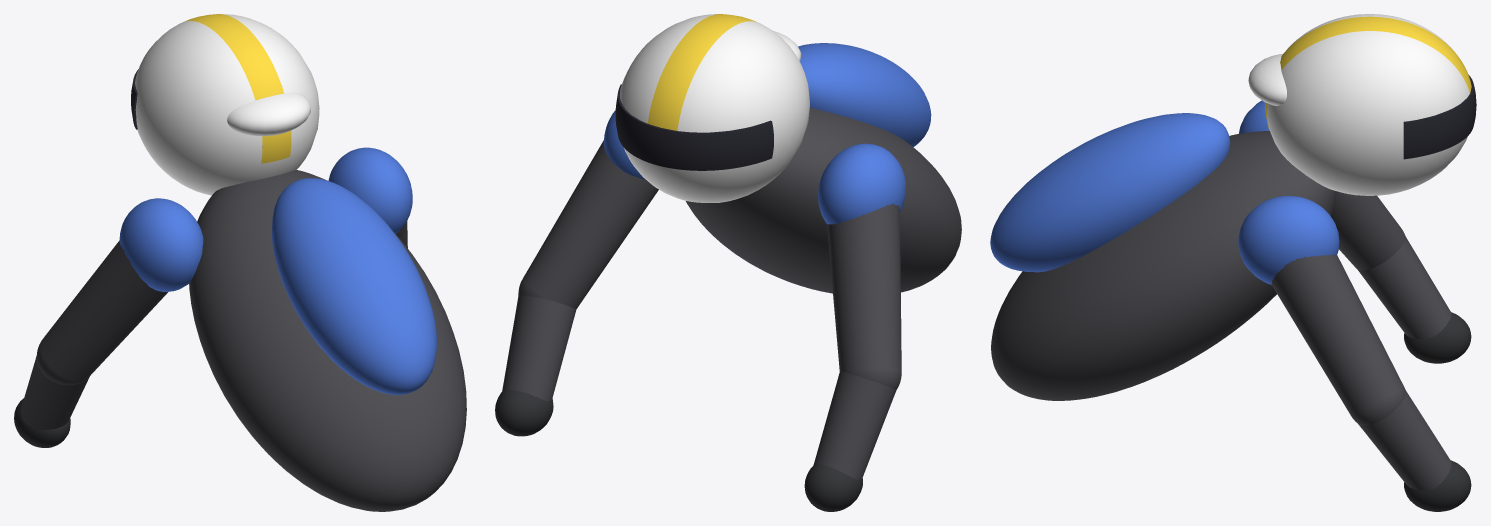
File: rider_upper.glb
3 views of the same model, side by side, from view 1: azimuth 30°, elevation 25°; view 2: azimuth 150°, elevation 25°; view 3: azimuth 270°, elevation 25° (orthographic). The views are drawn at different scales.
Parts seen in each view (by area): view 1: Suit, Livery, Helmet, Accent, Carbon; view 2: Suit, Helmet, Livery, Visor, Carbon, Accent; view 3: Suit, Livery, Helmet, Carbon, Accent, Visor.
Part boxes in pixels (bbox=[...]): Suit: bbox=[20, 170, 466, 511]; Livery: bbox=[119, 147, 436, 394]; Helmet: bbox=[135, 14, 319, 195]; Accent: bbox=[184, 14, 291, 163]; Carbon: bbox=[14, 398, 70, 447]; Suit: bbox=[502, 107, 961, 480]; Helmet: bbox=[620, 14, 809, 202]; Livery: bbox=[603, 43, 931, 224]; Visor: bbox=[615, 84, 773, 170]; Carbon: bbox=[495, 389, 862, 511]; Accent: bbox=[647, 14, 756, 130]; Suit: bbox=[991, 131, 1451, 490]; Livery: bbox=[990, 100, 1339, 284]; Helmet: bbox=[1248, 14, 1469, 195]; Carbon: bbox=[1404, 312, 1471, 511]; Accent: bbox=[1265, 16, 1471, 128]; Visor: bbox=[1403, 74, 1476, 159].
Bounding box in the file's own units: 0.63 × 0.6754 × 0.7207.
